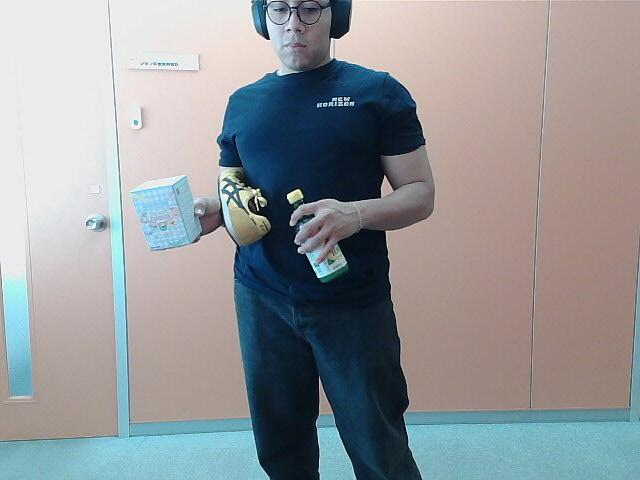Blind_box: (133, 180, 207, 252)
Lemon_sapporo: (285, 188, 349, 280)
Shoes: (218, 162, 272, 251)
